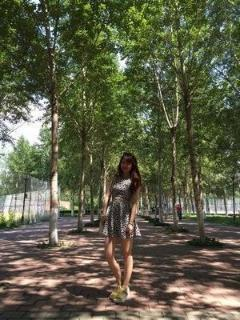vest: (102, 174, 141, 239)
